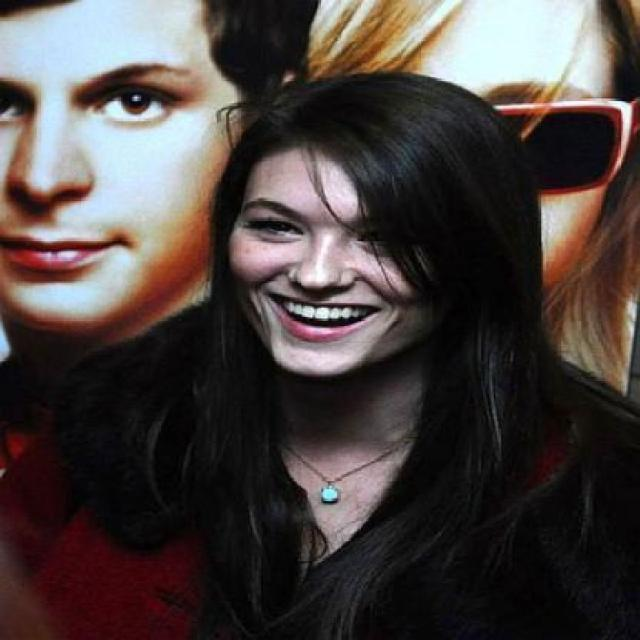face_nomask: (0, 61, 175, 290), (242, 210, 410, 344)
glasses: (491, 94, 638, 194)
head_nohelmet: (222, 64, 482, 202)
